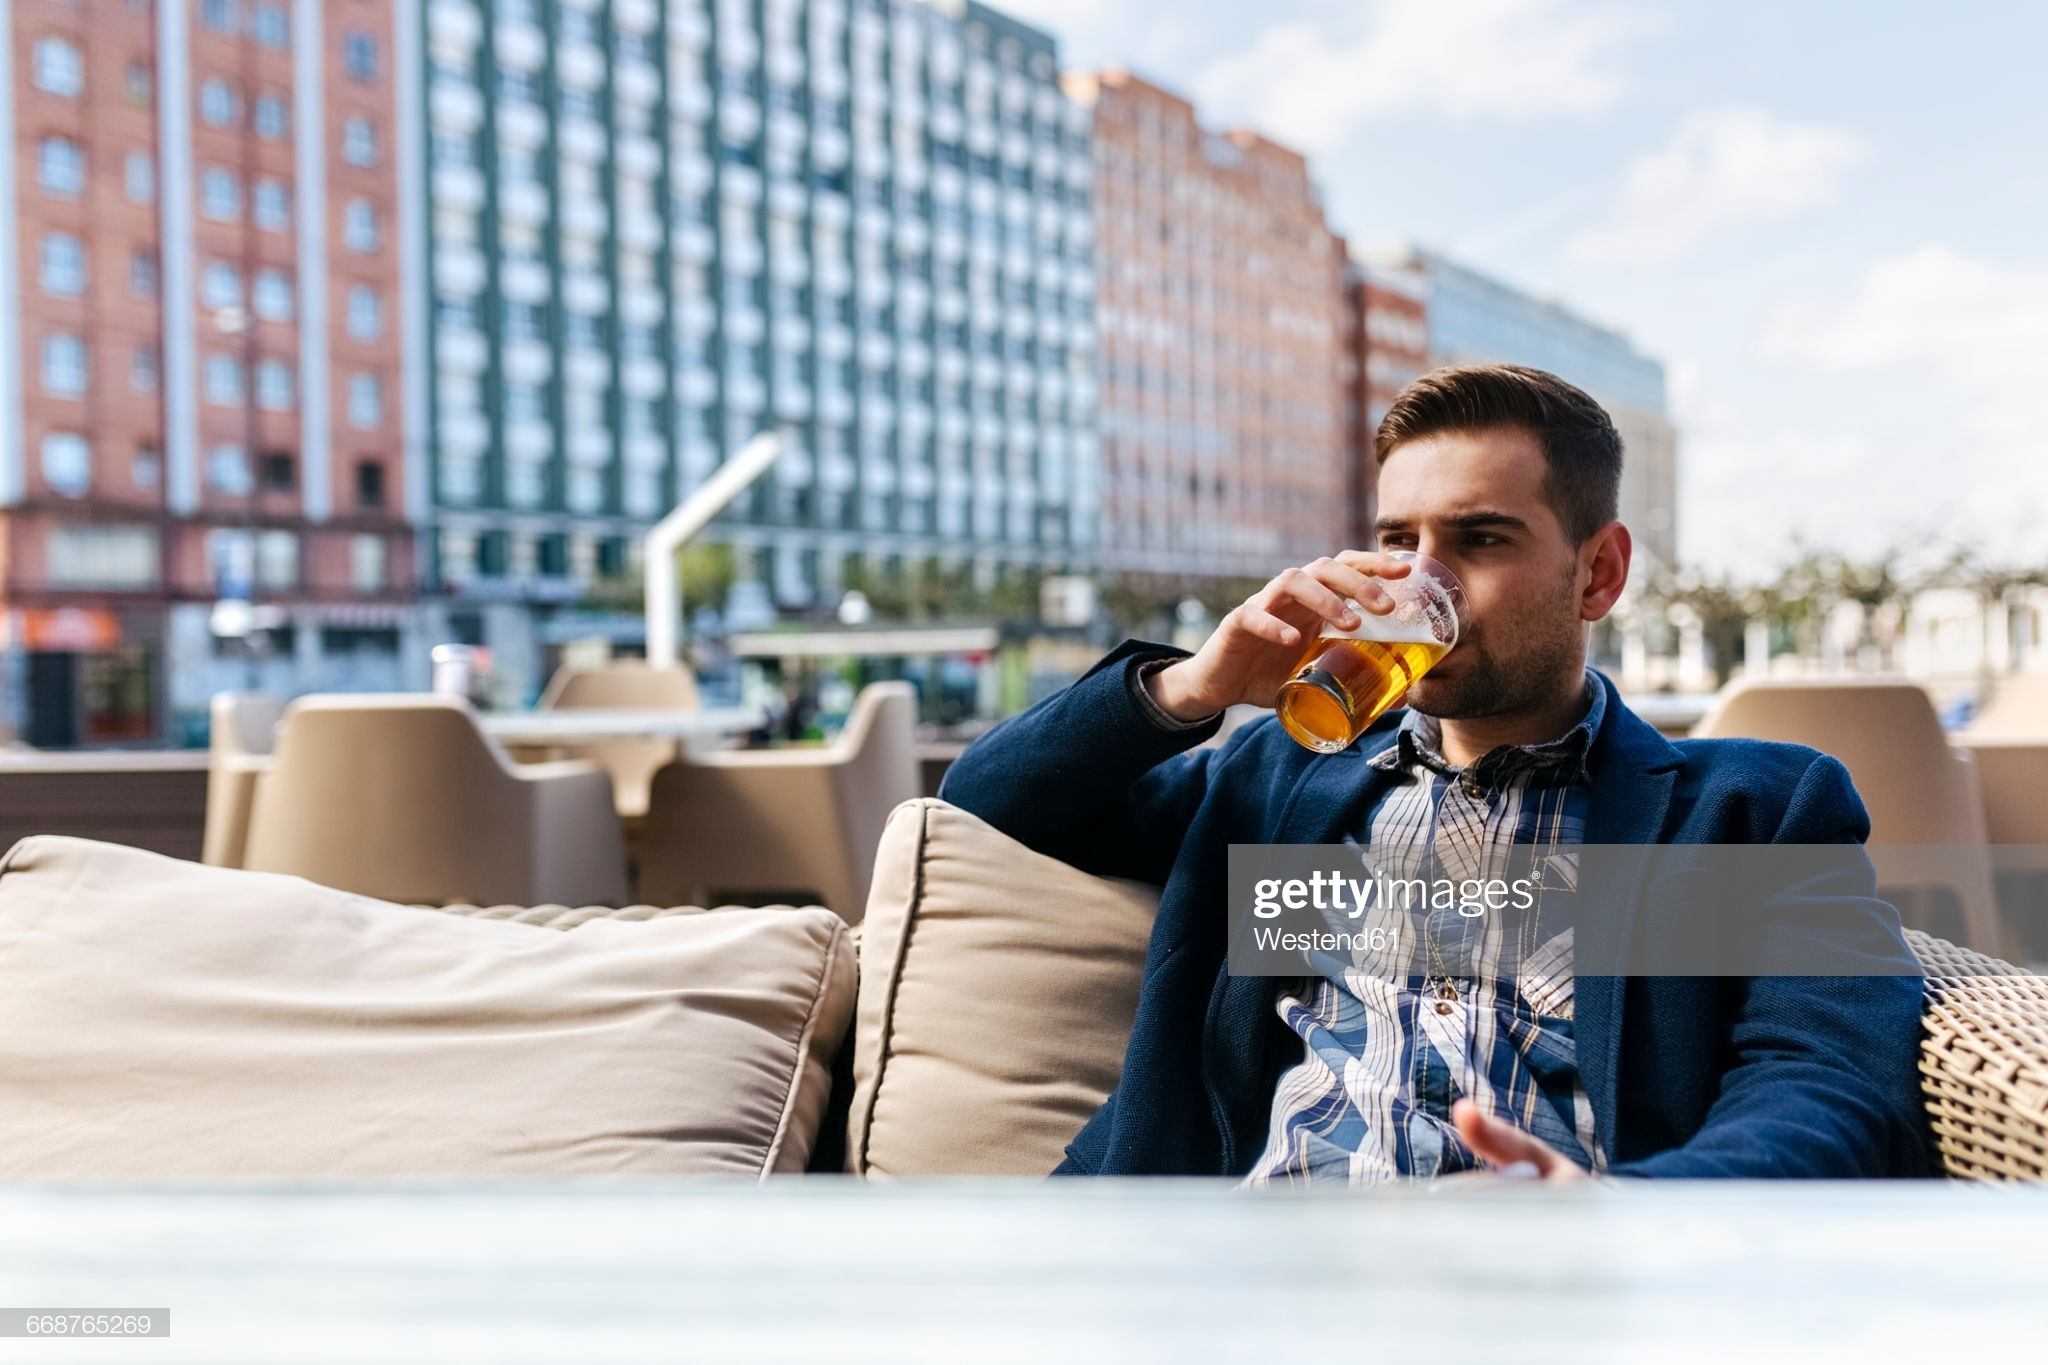glassBeer: (1276, 547, 1460, 756)
